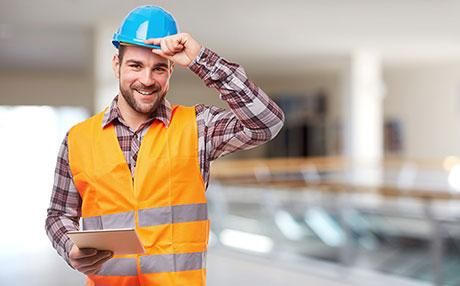helmet: (112, 6, 187, 54)
